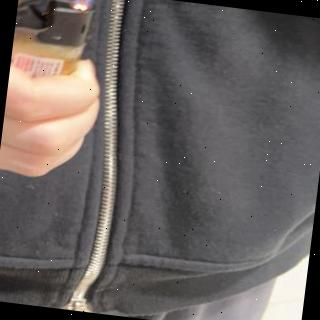fire: (74, 0, 100, 9)
